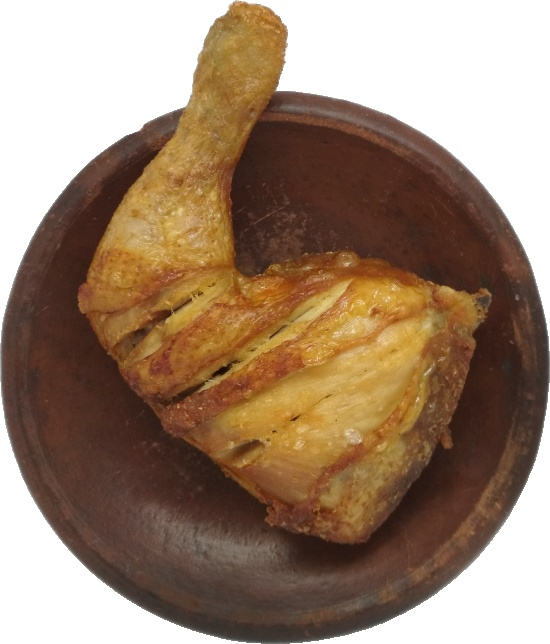ayam_goreng: (69, 3, 514, 553)
